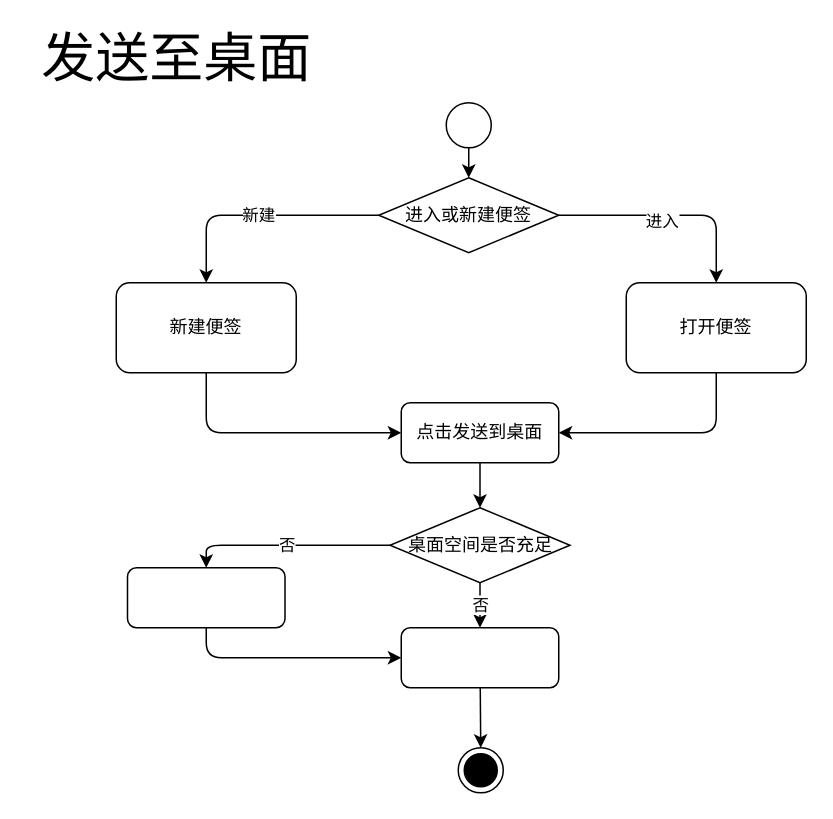
Image size: 833x819. Some labels were removed from this diagram. The centre of each missing label's shape, as x and y in pixels:
"在桌面上添加便签快捷方式" belongs at point (479, 657).
"建立新页面" belongs at point (205, 597).
